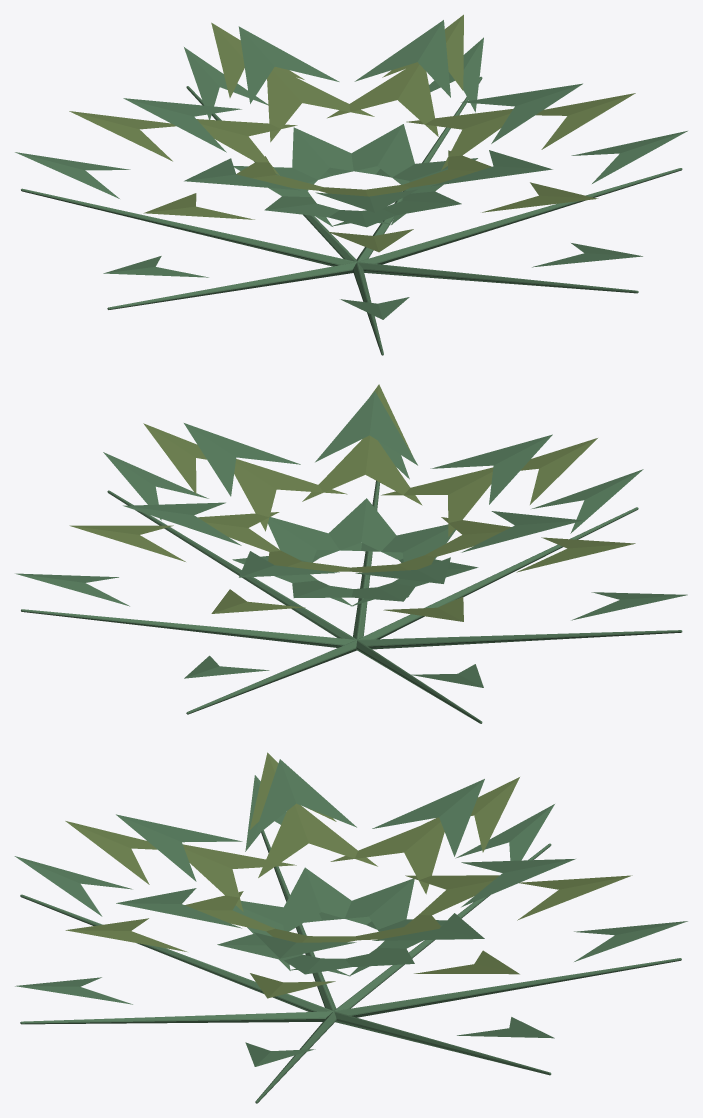
Rendered from fern.glb.
3 renders of one model, top to bottom at view 1: azimuth 30°, elevation 25°; view 2: azimuth 150°, elevation 25°; view 3: azimuth 270°, elevation 25°, orthographic. The views are drawn at different scales.
Parts seen in each view (by area): view 1: FrondStem.001, FernLeaf.003; view 2: FrondStem.001, FernLeaf.003; view 3: FrondStem.001, FernLeaf.003.
Part boxes in pixels (box(x1,y1,x2,y2)): FrondStem.001: box(15, 20, 687, 355); FernLeaf.003: box(69, 14, 635, 252); FrondStem.001: box(15, 391, 687, 723); FernLeaf.003: box(69, 384, 635, 621); FrondStem.001: box(14, 759, 687, 1103); FernLeaf.003: box(65, 752, 632, 998).
Size of the model in its own units: 1.31 by 0.3401 by 1.28.
